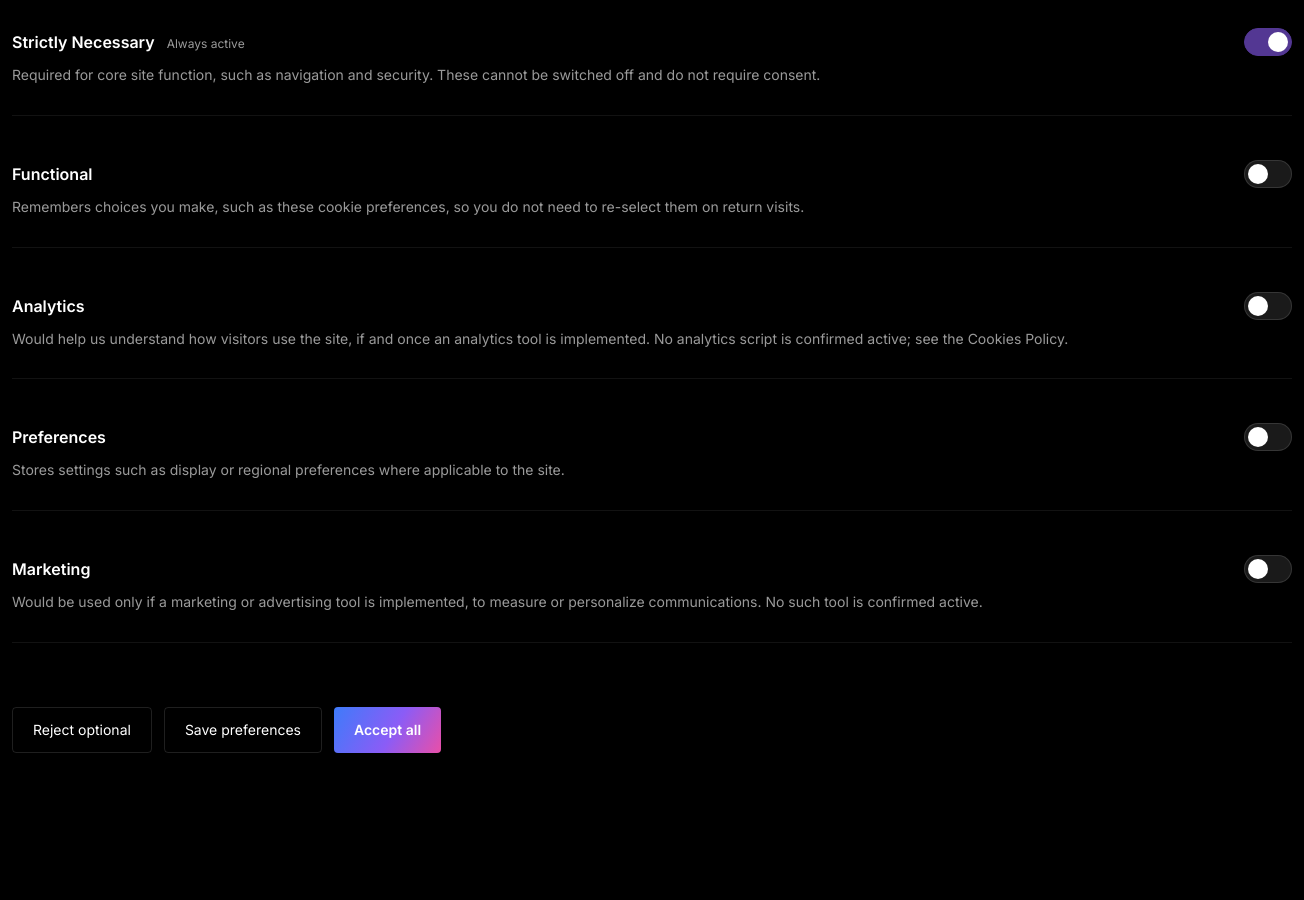
Test: CookiePreferencesManager › Accept all persists every category as granted and announces the save
Click the button "Accept all" at (388, 730), box [334, 707, 441, 753]
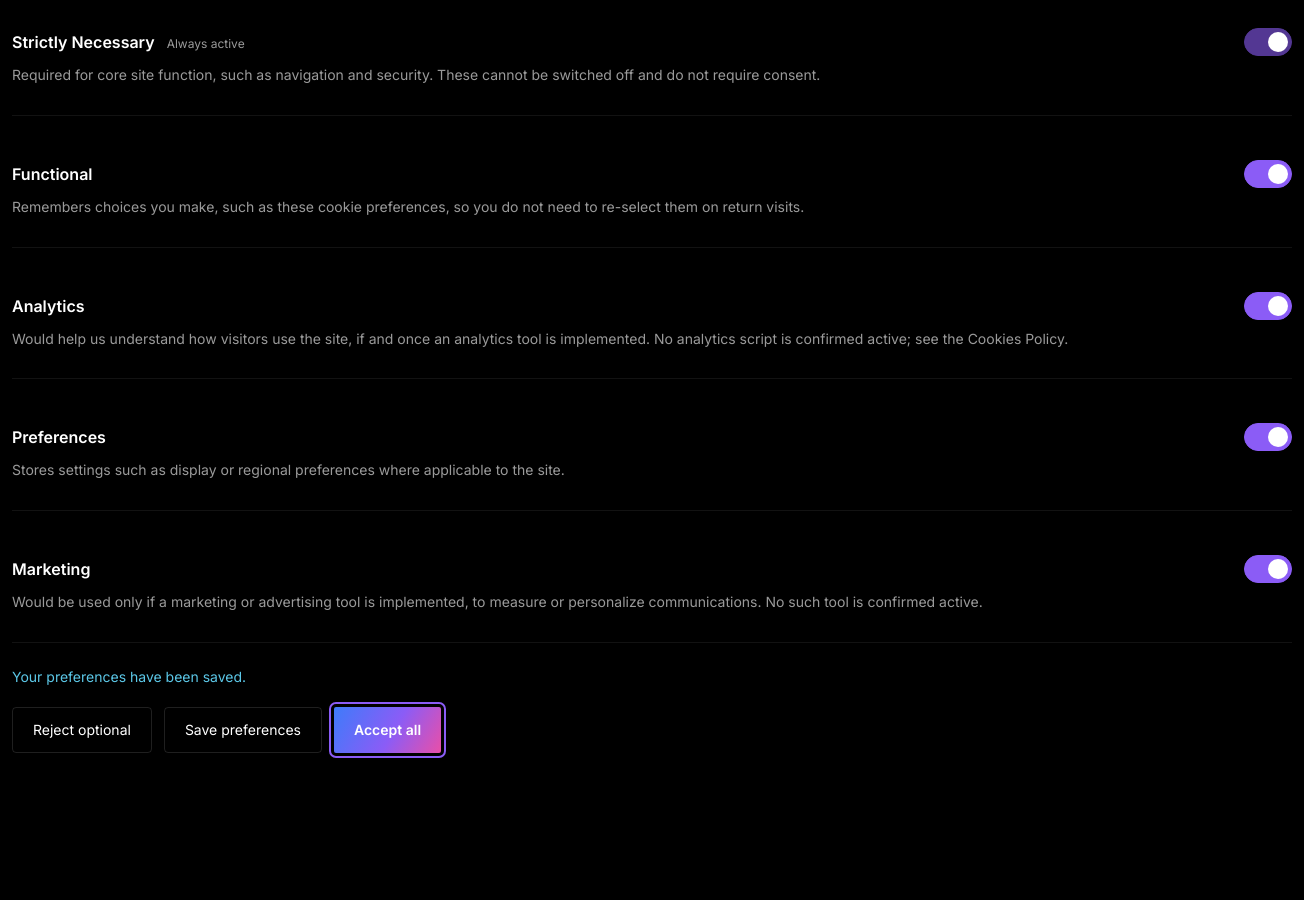
Check: the text "Your preferences have been saved." is shown, box [12, 668, 246, 685]
